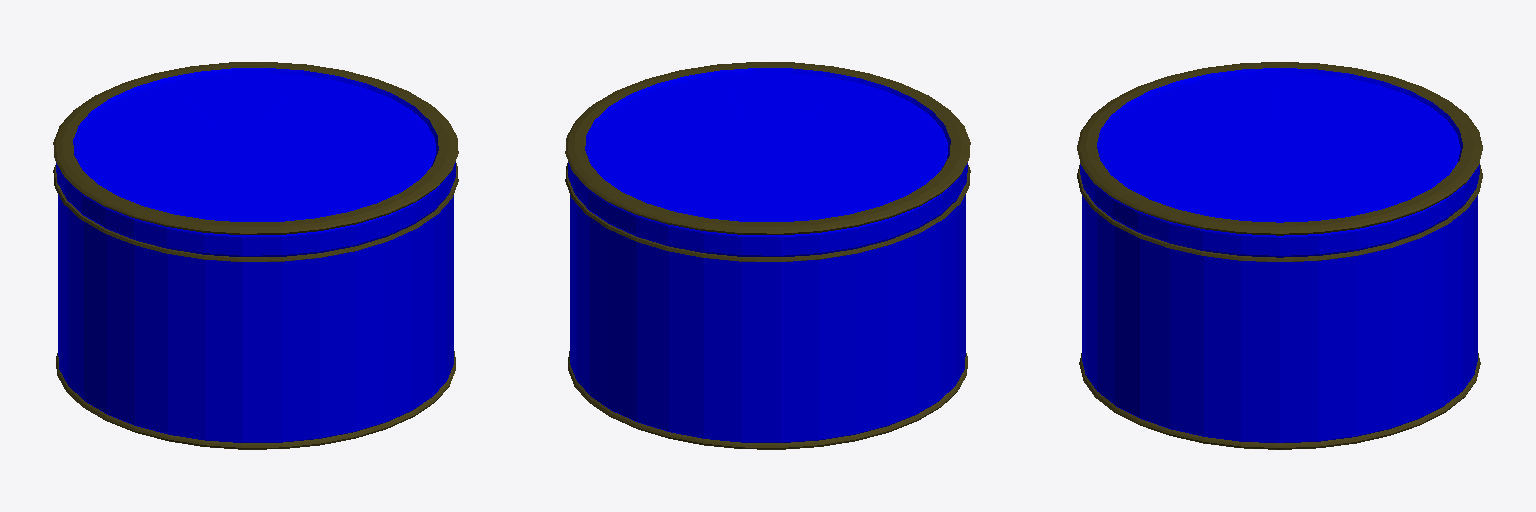
File: LataGalletas.obj
3 views of the same model, side by side, from view 1: azimuth 30°, elevation 25°; view 2: azimuth 150°, elevation 25°; view 3: azimuth 270°, elevation 25° (orthographic).
Parts seen in each view (by area): view 1: LataGalletas; view 2: LataGalletas; view 3: LataGalletas.
Boxes of the visible parts, box(x1,y1,x2,y2) form: LataGalletas: box(53, 62, 458, 449); LataGalletas: box(565, 62, 970, 449); LataGalletas: box(1077, 62, 1482, 449).
Size of the model in its own units: 3.35 by 2.02 by 3.35.